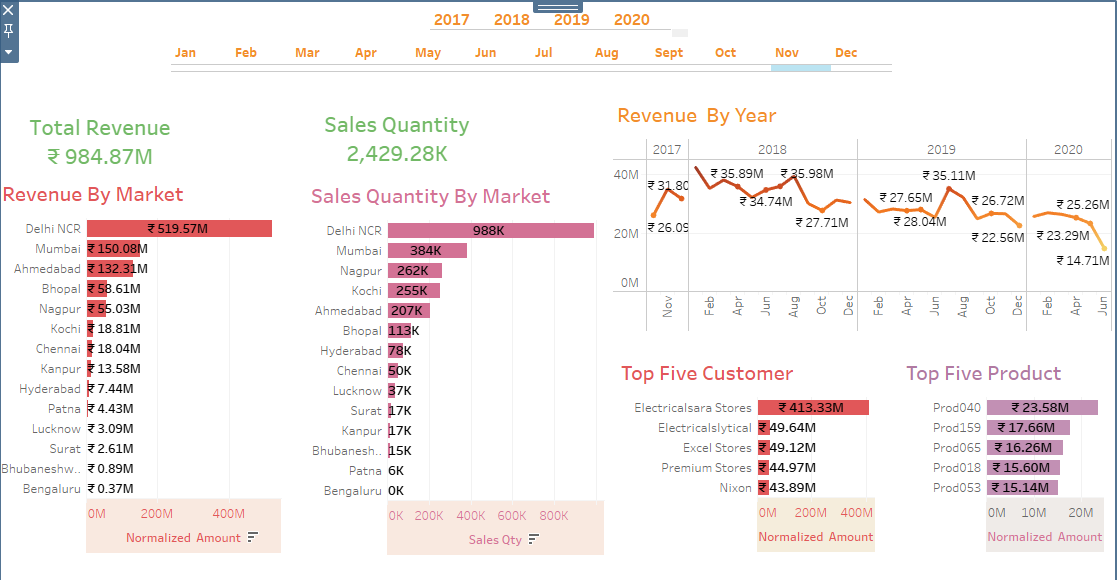

The page's visual inventory and layout, read from the dashboard file:
{"tool":"tableau","page":{"name":"Sales Analysis","canvas":[1130,595],"ordinal":1},"visuals":[{"type":"worksheet","title":"Year","mark":"Automatic","cols":["cy_date"],"box":[437,0,267,44]},{"type":"worksheet","title":"Months","mark":"Automatic","cols":["cy_date"],"box":[178,34,732,49]},{"type":"worksheet","title":"Sales Quantity","mark":"Automatic","box":[324,100,167,87]},{"type":"worksheet","title":"Revenue  By Year","mark":"Automatic","rows":["Calculation_958422331657248768"],"cols":["cy_date","cy_date"],"box":[620,102,499,236]},{"type":"worksheet","title":"Revenue","mark":"Automatic","box":[27,118,169,65]},{"type":"worksheet","title":"Revenue By Market","mark":"Automatic","rows":["markets_name"],"cols":["Calculation_958422331657248768"],"box":[5,181,292,404]},{"type":"worksheet","title":"Sales Quantity By Market","mark":"Automatic","rows":["markets_name"],"cols":["sales_qty"],"box":[314,183,298,378]},{"type":"worksheet","title":"Top Five Customer","mark":"Automatic","rows":["custmer_name"],"cols":["Calculation_958422331657248768"],"box":[624,360,258,216]},{"type":"worksheet","title":"Top Five Product","mark":"Automatic","rows":["product_code (products)"],"cols":["Calculation_958422331657248768"],"box":[909,360,202,224]}]}

Visuals, with their boxes in screenshot pixels (x1, y1, x2, y2), scaled from the page's 1130x595 canvas onto the 1117x580 screenshot:
"Year" worksheet: {"left": 432, "top": 0, "right": 696, "bottom": 43}
"Months" worksheet: {"left": 176, "top": 33, "right": 900, "bottom": 81}
"Sales Quantity" worksheet: {"left": 320, "top": 97, "right": 485, "bottom": 182}
"Revenue  By Year" worksheet: {"left": 613, "top": 99, "right": 1106, "bottom": 329}
"Revenue" worksheet: {"left": 27, "top": 115, "right": 194, "bottom": 178}
"Revenue By Market" worksheet: {"left": 5, "top": 176, "right": 294, "bottom": 570}
"Sales Quantity By Market" worksheet: {"left": 310, "top": 178, "right": 605, "bottom": 547}
"Top Five Customer" worksheet: {"left": 617, "top": 351, "right": 872, "bottom": 561}
"Top Five Product" worksheet: {"left": 899, "top": 351, "right": 1098, "bottom": 569}
